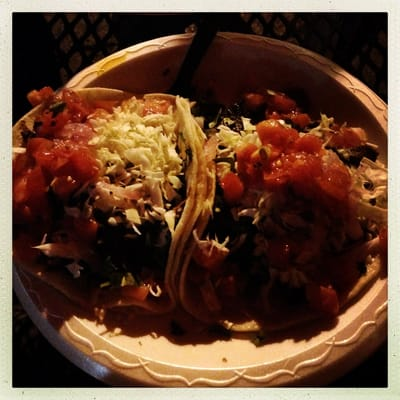sandwich: (17, 22, 389, 383)
